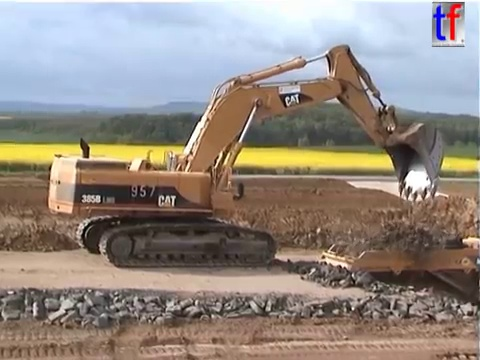excavator: (44, 41, 448, 270)
truck: (317, 235, 480, 328)
